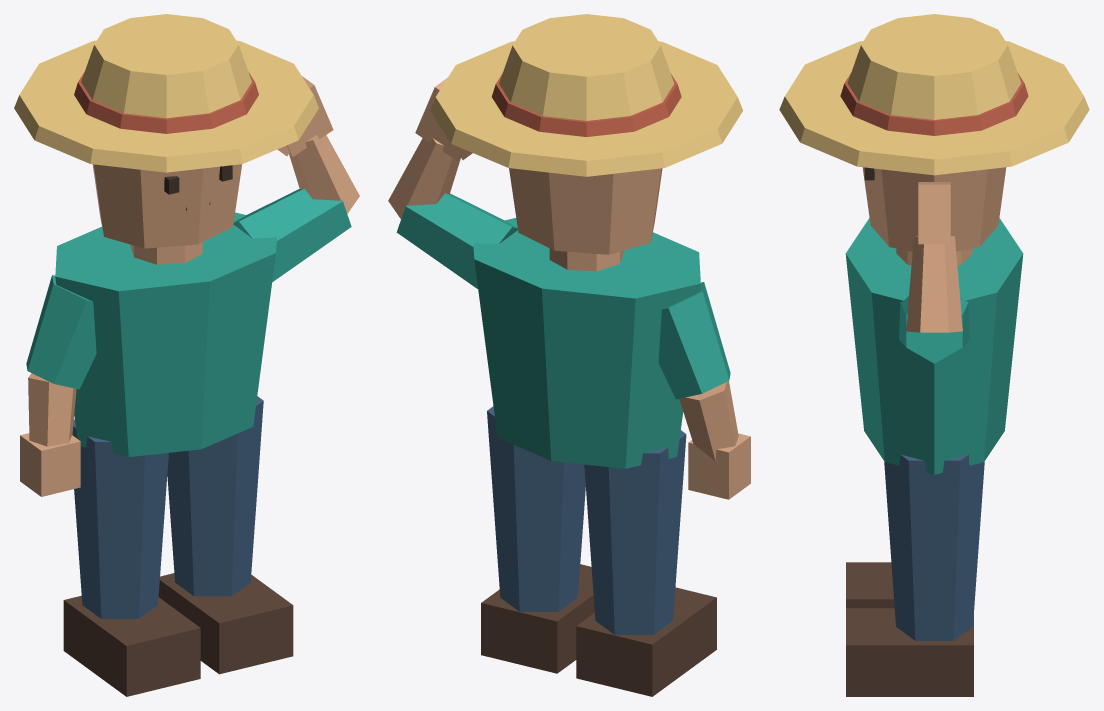
Rendered from straw-hat-waver.glb.
The picture shows the model from 3 angles, left to right: view 1: azimuth 30°, elevation 25°; view 2: azimuth 150°, elevation 25°; view 3: azimuth 270°, elevation 25°; orthographic projection. The views are drawn at different scales.
Visible parts, largest first — view 1: Shirt, Straw brim, Left trouser leg, Hat crown, Right trouser leg, Faceted head, Left shoe, Right shoe, Resting sleeve, Raised sleeve, Hat ribbon, Resting hand (+4 smaller); view 2: Shirt, Straw brim, Left trouser leg, Hat crown, Right trouser leg, Faceted head, Left shoe, Right shoe, Resting sleeve, Raised sleeve, Hat ribbon, Waving forearm (+4 smaller); view 3: Shirt, Straw brim, Right trouser leg, Hat crown, Right shoe, Faceted head, Waving forearm, Hat ribbon, Left shoe, Waving hand, Raised sleeve.
Boxes of the visible parts, x1=… form: Shirt: x1=55, y1=212, x2=276, y2=456; Straw brim: x1=14, y1=40, x2=318, y2=172; Left trouser leg: x1=72, y1=419, x2=168, y2=618; Hat crown: x1=81, y1=14, x2=251, y2=118; Right trouser leg: x1=167, y1=396, x2=263, y2=596; Faceted head: x1=92, y1=164, x2=242, y2=248; Left shoe: x1=63, y1=595, x2=200, y2=696; Right shoe: x1=158, y1=573, x2=293, y2=674; Resting sleeve: x1=26, y1=275, x2=96, y2=389; Raised sleeve: x1=233, y1=188, x2=351, y2=281; Hat ribbon: x1=74, y1=71, x2=258, y2=133; Resting hand: x1=20, y1=433, x2=80, y2=496; Shirt: x1=473, y1=218, x2=700, y2=468; Straw brim: x1=430, y1=41, x2=743, y2=176; Left trouser leg: x1=584, y1=430, x2=686, y2=634; Hat crown: x1=499, y1=14, x2=674, y2=120; Right trouser leg: x1=487, y1=406, x2=585, y2=611; Faceted head: x1=509, y1=168, x2=662, y2=254; Left shoe: x1=576, y1=587, x2=716, y2=696; Right shoe: x1=481, y1=564, x2=594, y2=673; Resting sleeve: x1=658, y1=282, x2=730, y2=399; Raised sleeve: x1=396, y1=193, x2=517, y2=288; Hat ribbon: x1=492, y1=73, x2=681, y2=136; Waving forearm: x1=388, y1=138, x2=460, y2=219; Shirt: x1=845, y1=218, x2=1023, y2=474; Straw brim: x1=779, y1=41, x2=1089, y2=175; Right trouser leg: x1=884, y1=454, x2=984, y2=640; Hat crown: x1=847, y1=14, x2=1021, y2=119; Right shoe: x1=846, y1=608, x2=973, y2=696; Faceted head: x1=862, y1=167, x2=1006, y2=251; Waving forearm: x1=906, y1=236, x2=962, y2=332; Hat ribbon: x1=840, y1=73, x2=1028, y2=135; Left shoe: x1=846, y1=562, x2=894, y2=608; Waving hand: x1=918, y1=182, x2=950, y2=244; Raised sleeve: x1=899, y1=296, x2=969, y2=363.
Size of the model in its own units: 1.42 by 2.48 by 1.14.
